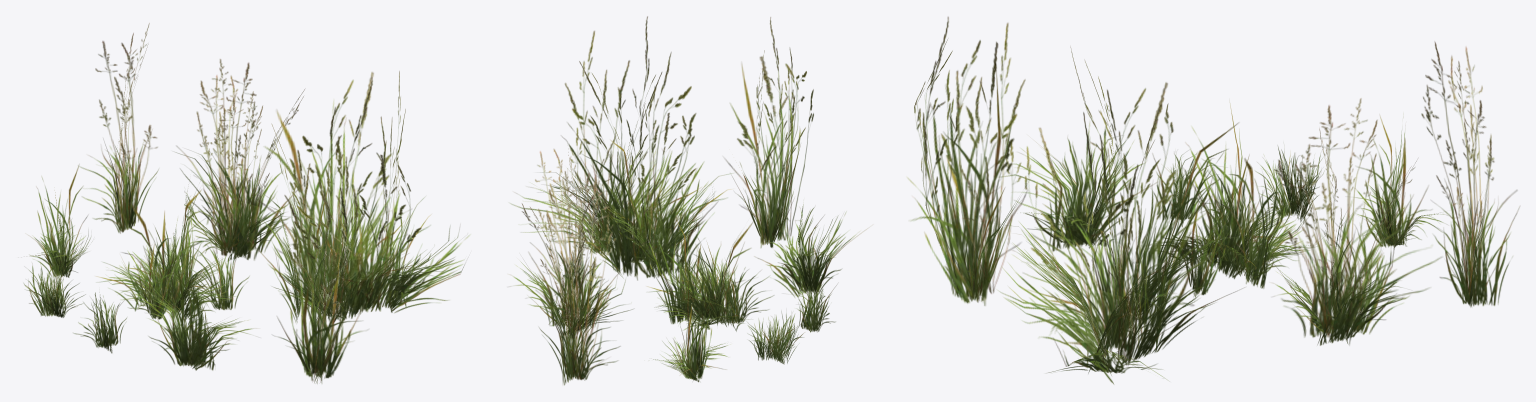
Rendered from bush2.glb.
3 views of the same model, side by side, from view 1: azimuth 30°, elevation 25°; view 2: azimuth 150°, elevation 25°; view 3: azimuth 270°, elevation 25° (orthographic). The views are drawn at different scales.
Visible parts, largest first — view 1: Medium_bush_2_phong3_0; view 2: Medium_bush_2_phong3_0; view 3: Medium_bush_2_phong3_0.
Boxes of the visible parts, x1,y1,x2,y2 form: Medium_bush_2_phong3_0: (24, 23, 469, 383); Medium_bush_2_phong3_0: (509, 16, 870, 385); Medium_bush_2_phong3_0: (907, 16, 1519, 384).
Size of the model in its own units: 224 by 145 by 256.
Materials: 1 (1 with a texture image).
